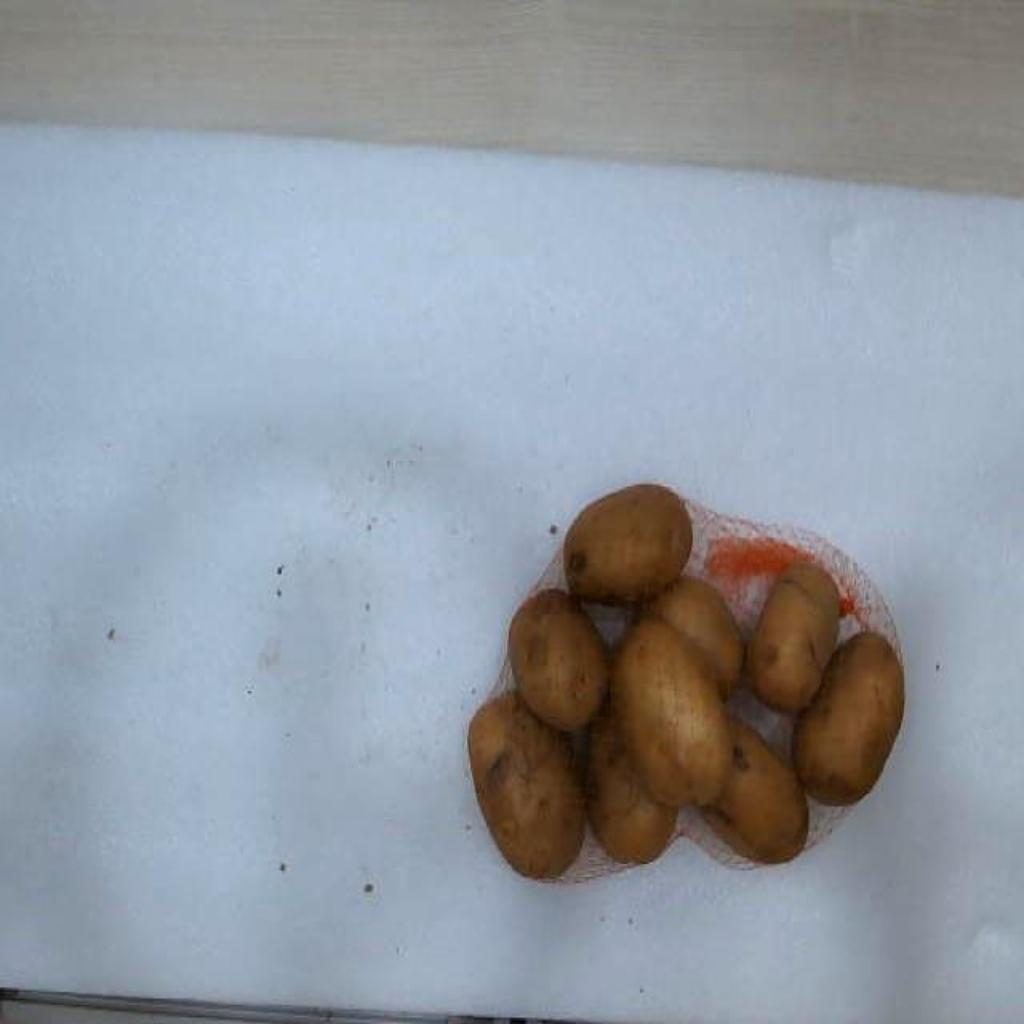potato: (610, 616, 730, 805), (468, 693, 586, 877), (794, 632, 904, 804), (564, 483, 692, 604), (702, 720, 806, 863), (746, 560, 840, 711), (510, 589, 608, 731), (590, 707, 678, 863), (650, 579, 744, 697)
